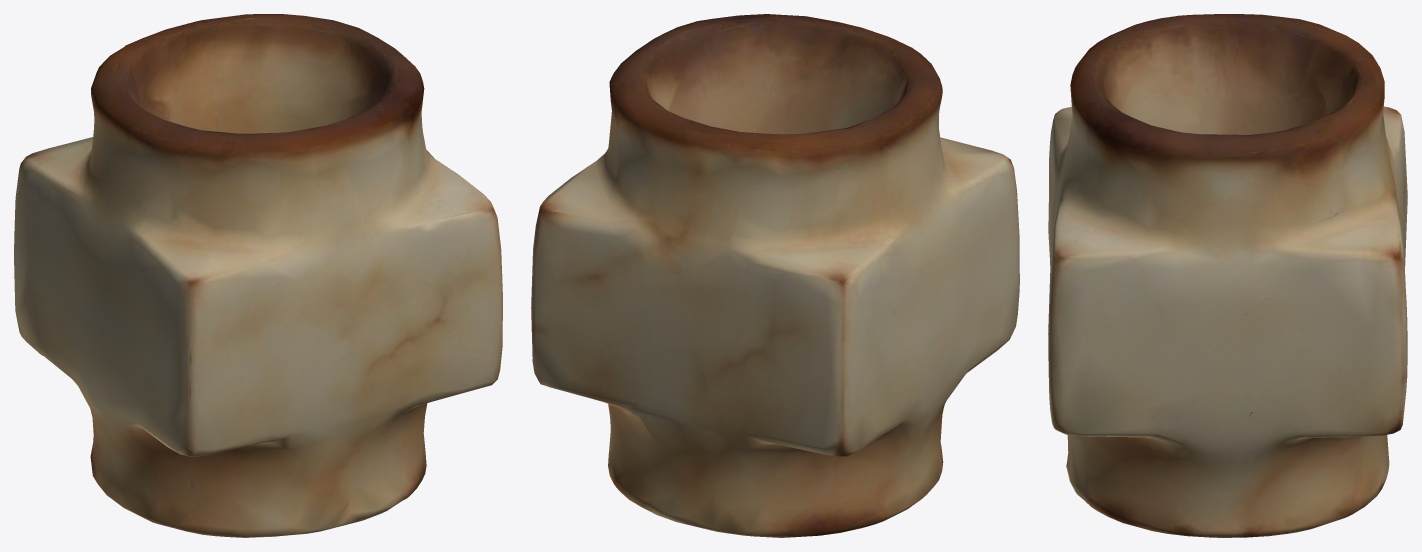
Rendered from jin-white-overview.glb.
The picture shows the model from 3 angles, left to right: view 1: azimuth 30°, elevation 25°; view 2: azimuth 150°, elevation 25°; view 3: azimuth 270°, elevation 25°; orthographic projection.
Parts seen in each view (by area): view 1: node_0; view 2: node_0; view 3: node_0.
Boxes of the visible parts, x1=… form: node_0: x1=14, y1=14, x2=502, y2=537; node_0: x1=531, y1=14, x2=1019, y2=537; node_0: x1=1048, y1=14, x2=1407, y2=537.
Bounding box in the file's own units: 0.827 × 0.9574 × 0.7928.
Materials: 1 (1 with a texture image).
